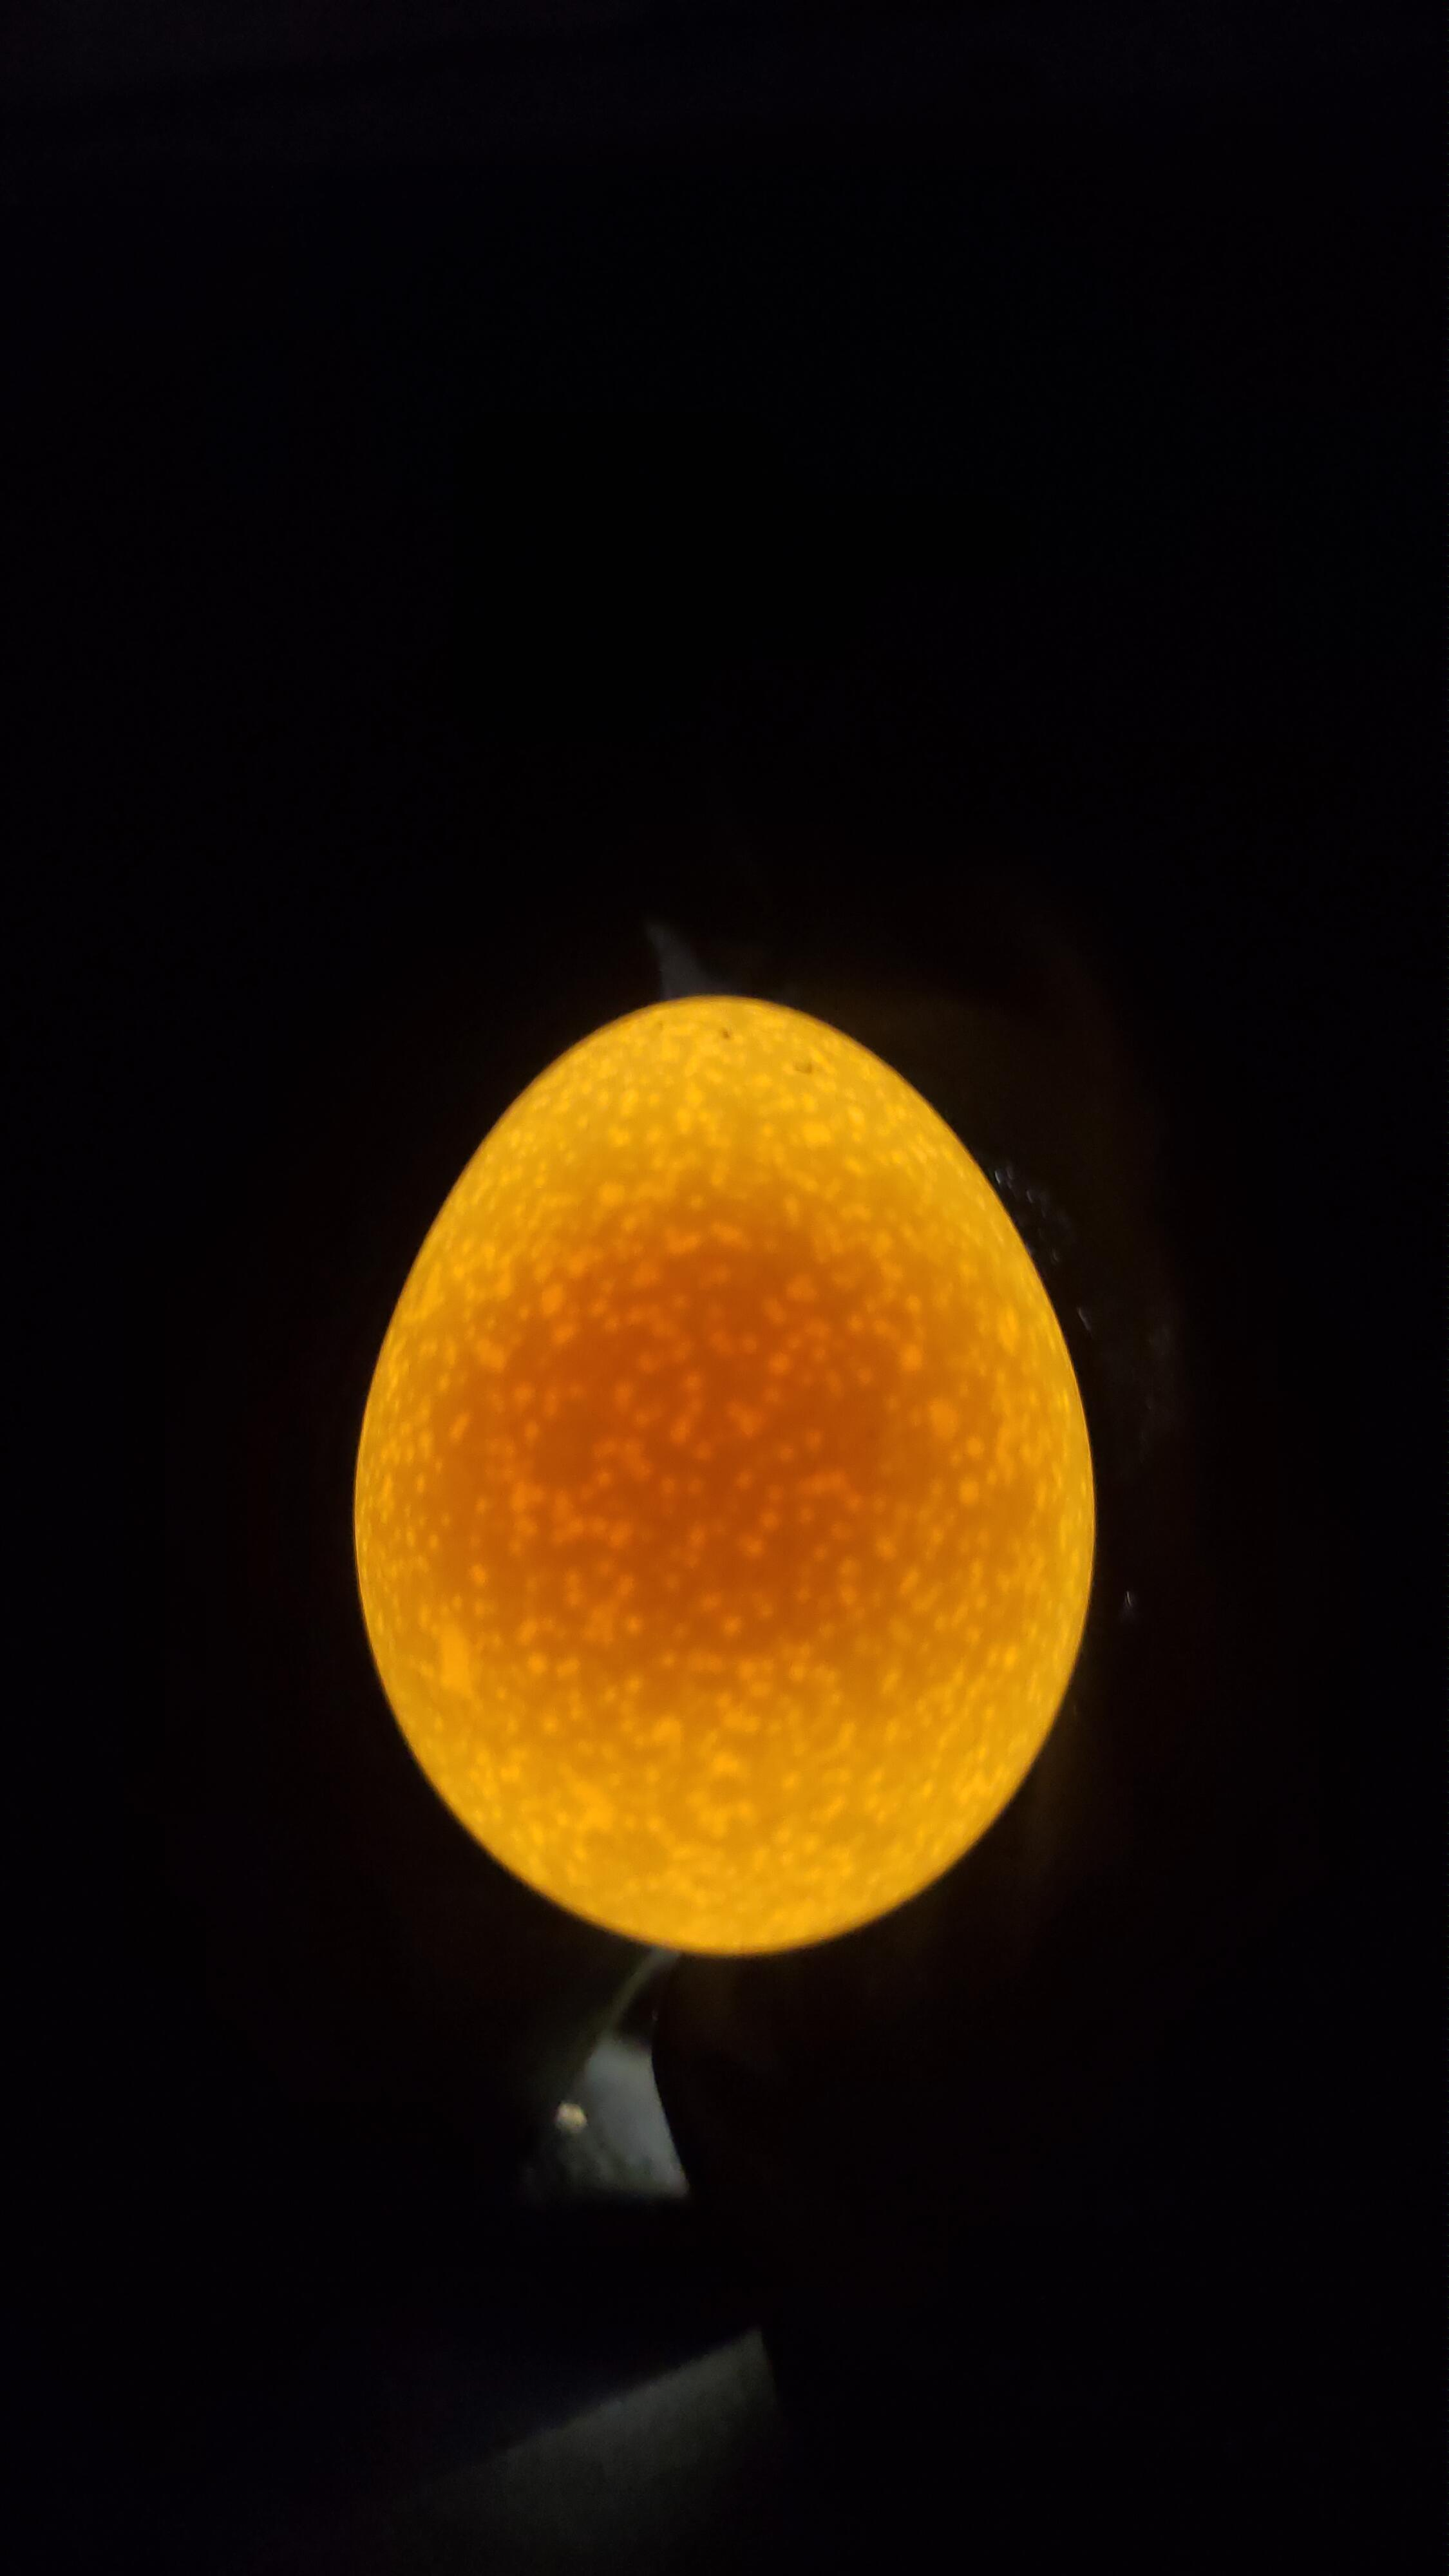A - Good: (283, 954, 1134, 1990)
